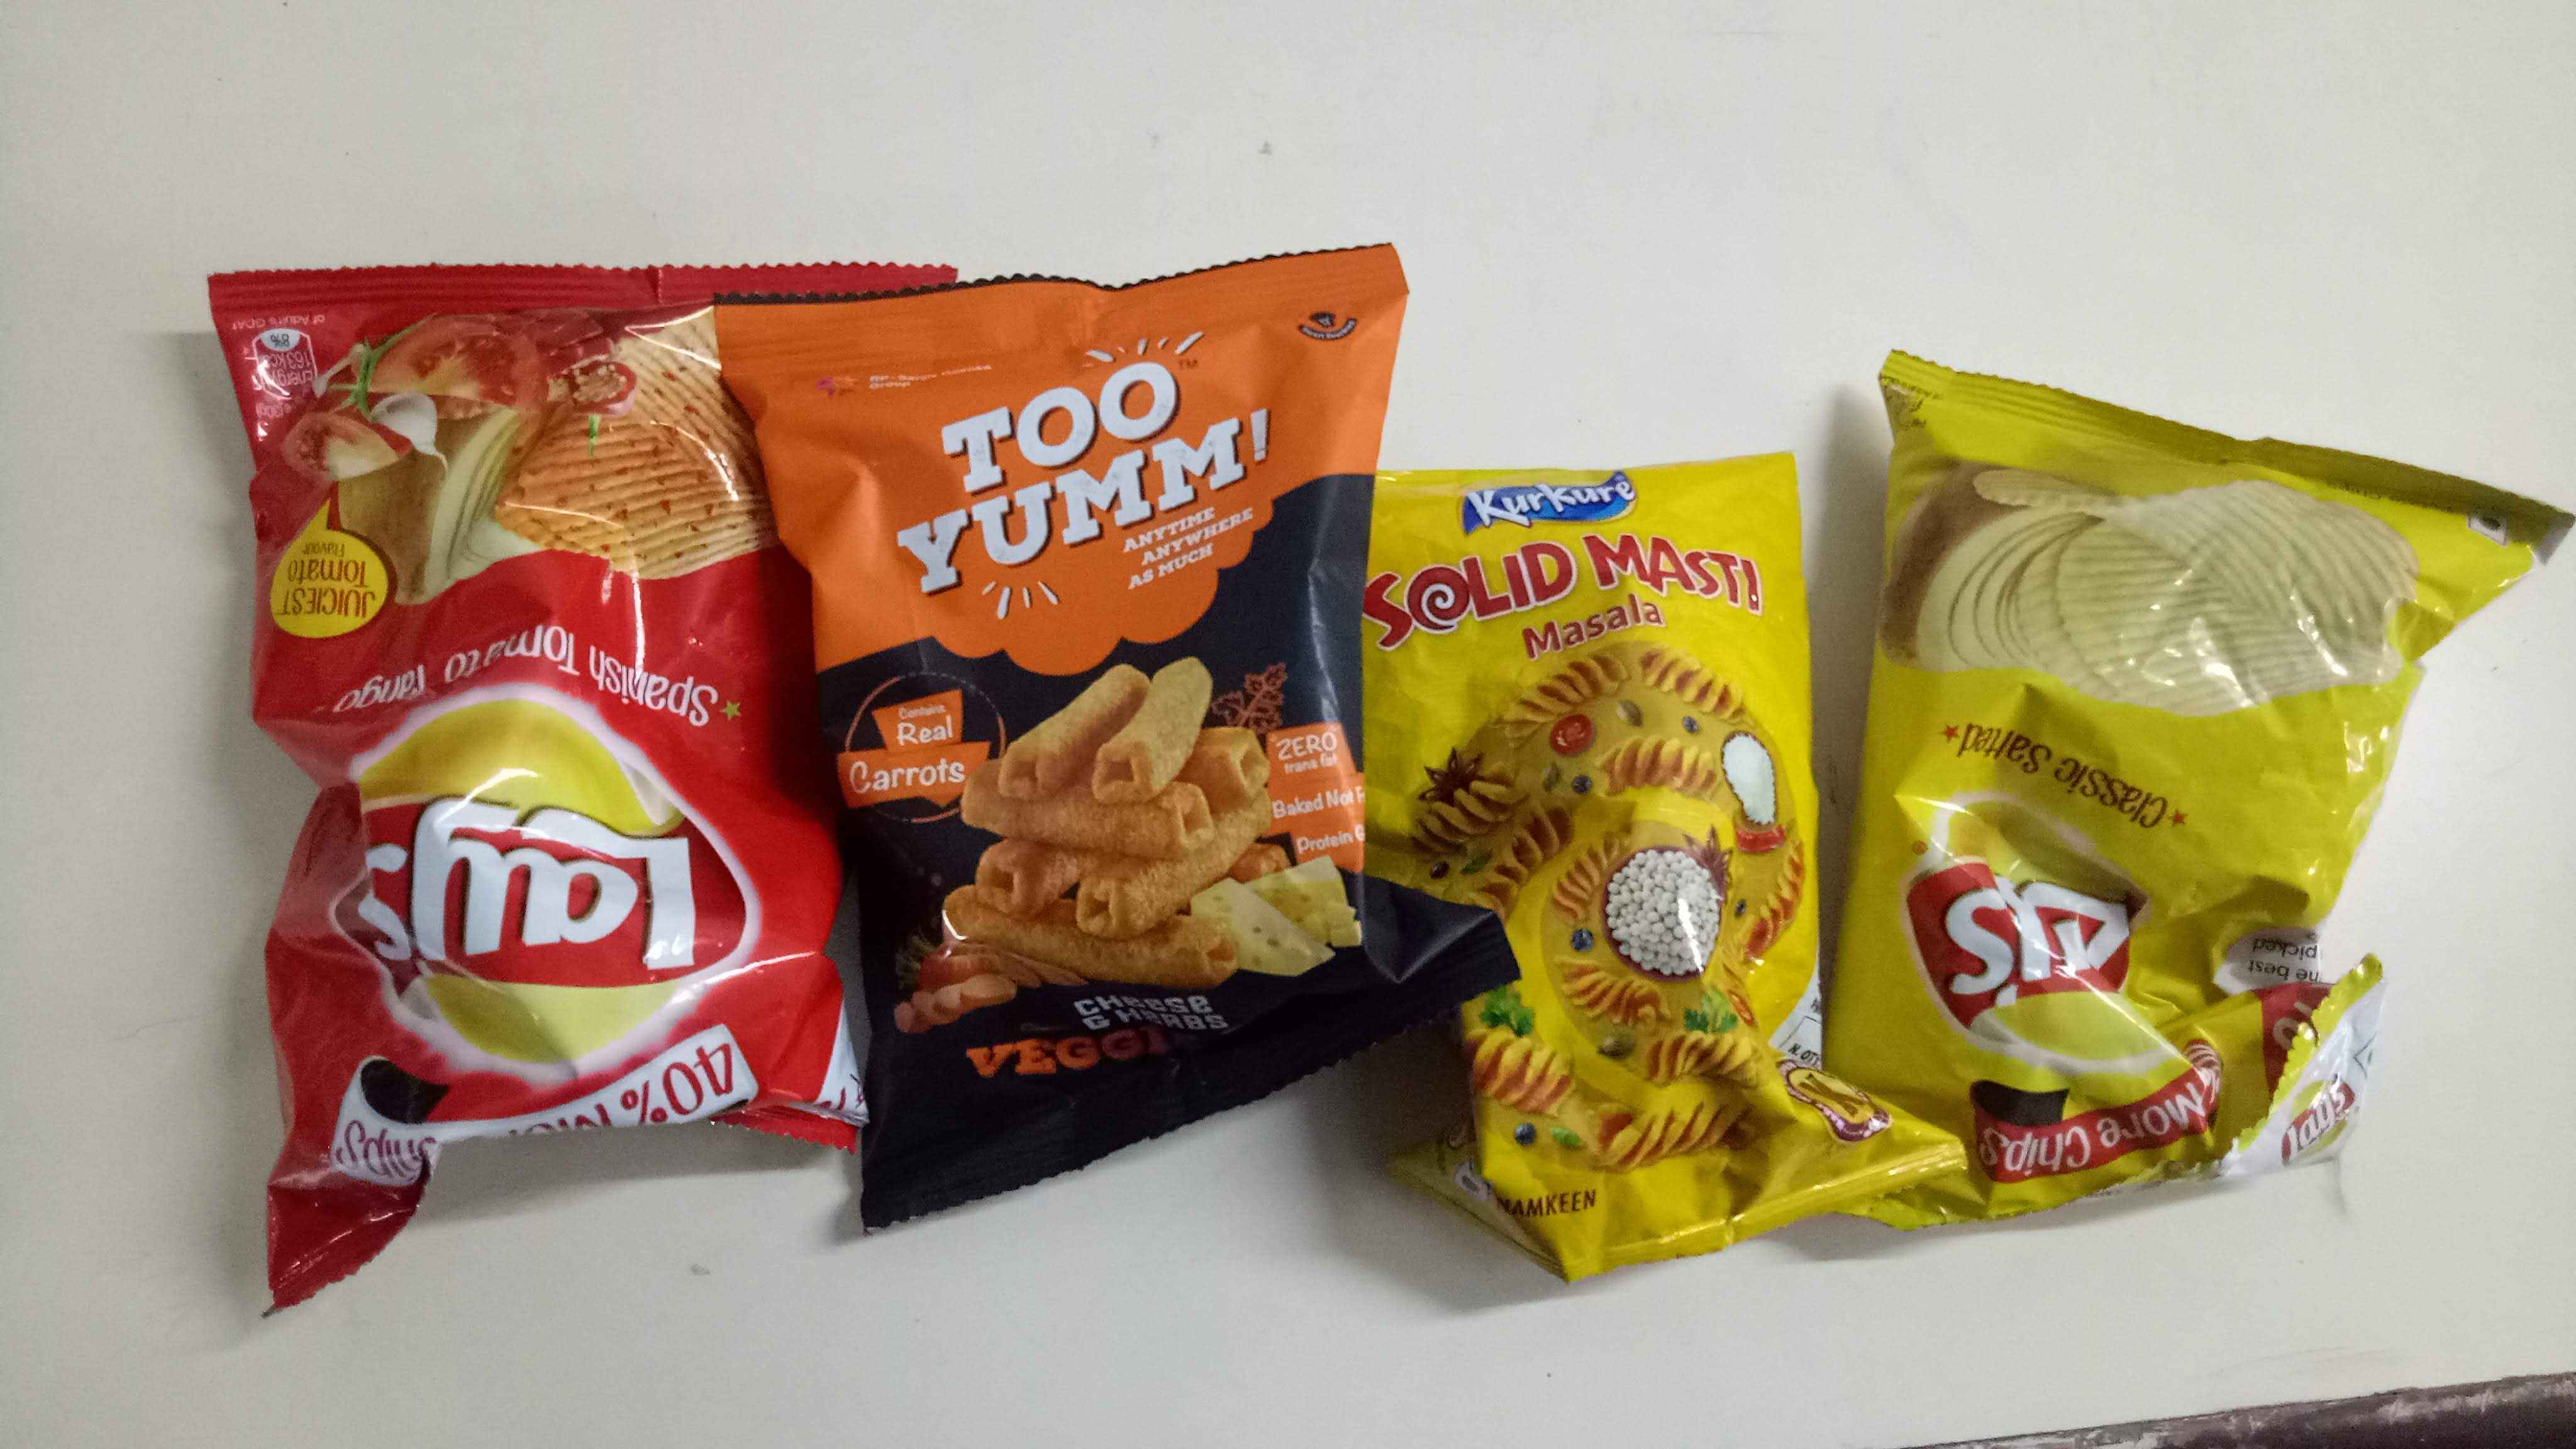Lays: (324, 704, 766, 1016), (1886, 793, 2227, 1058)
kurkure: (1461, 478, 1654, 561)
tooyumm: (908, 345, 1279, 609)
